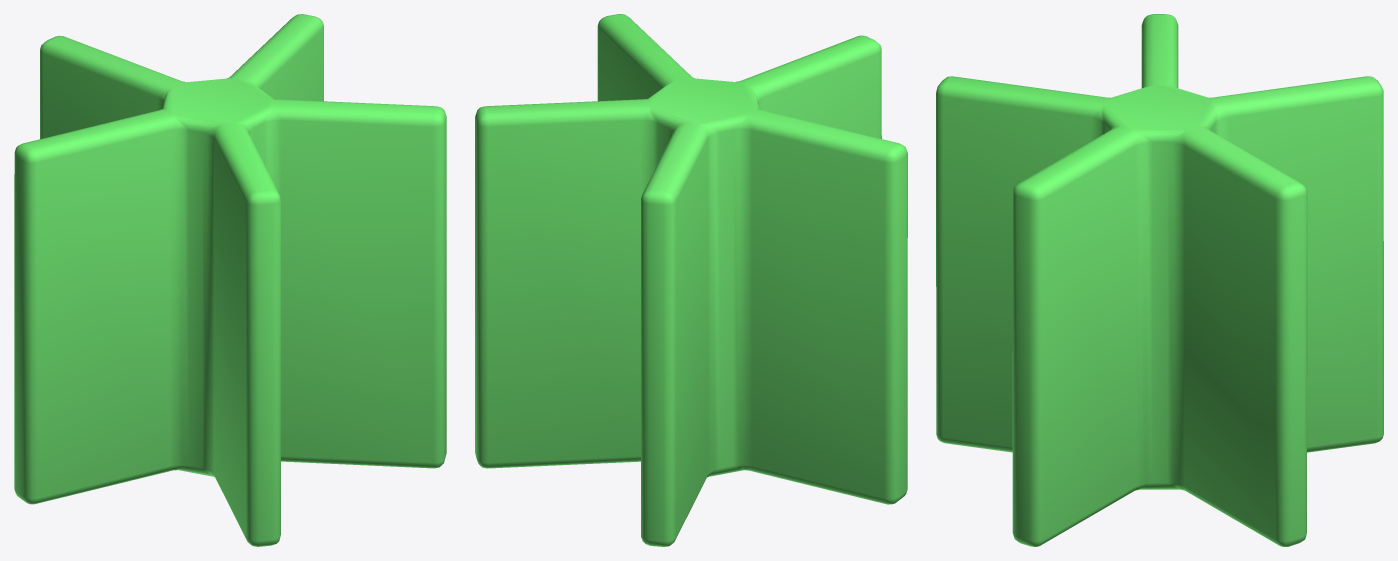
Rendered from trap_platformcirclehorizontal_3.glb.
3 views of the same model, side by side, from view 1: azimuth 30°, elevation 25°; view 2: azimuth 150°, elevation 25°; view 3: azimuth 270°, elevation 25° (orthographic).
Visible parts, largest first — view 1: Cylinder.043_visual; view 2: Cylinder.043_visual; view 3: Cylinder.043_visual.
Boxes of the visible parts, <box> form: Cylinder.043_visual: <box>14,14,446,546</box>; Cylinder.043_visual: <box>475,14,907,546</box>; Cylinder.043_visual: <box>936,14,1383,546</box>.
Size of what is drawn, in the model's own units: 7.64 by 7.1 by 8.01.
1 material, 1 textured.
